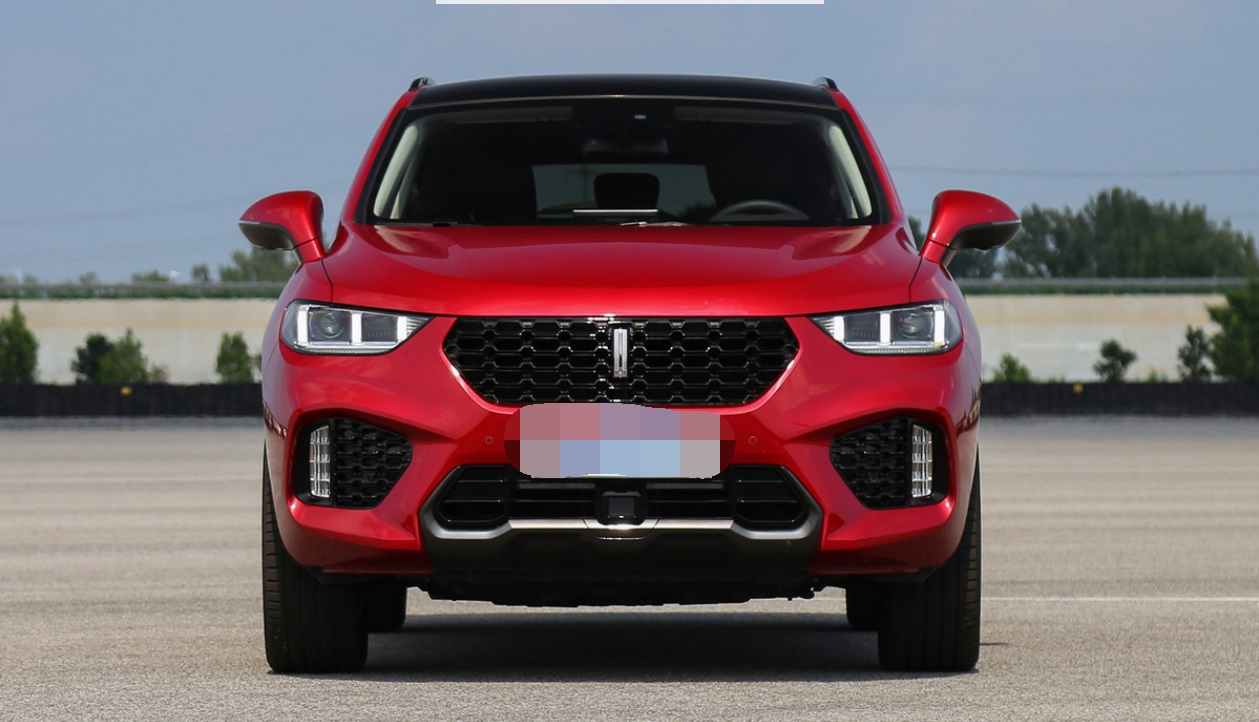SUV: (239, 72, 1029, 677)
